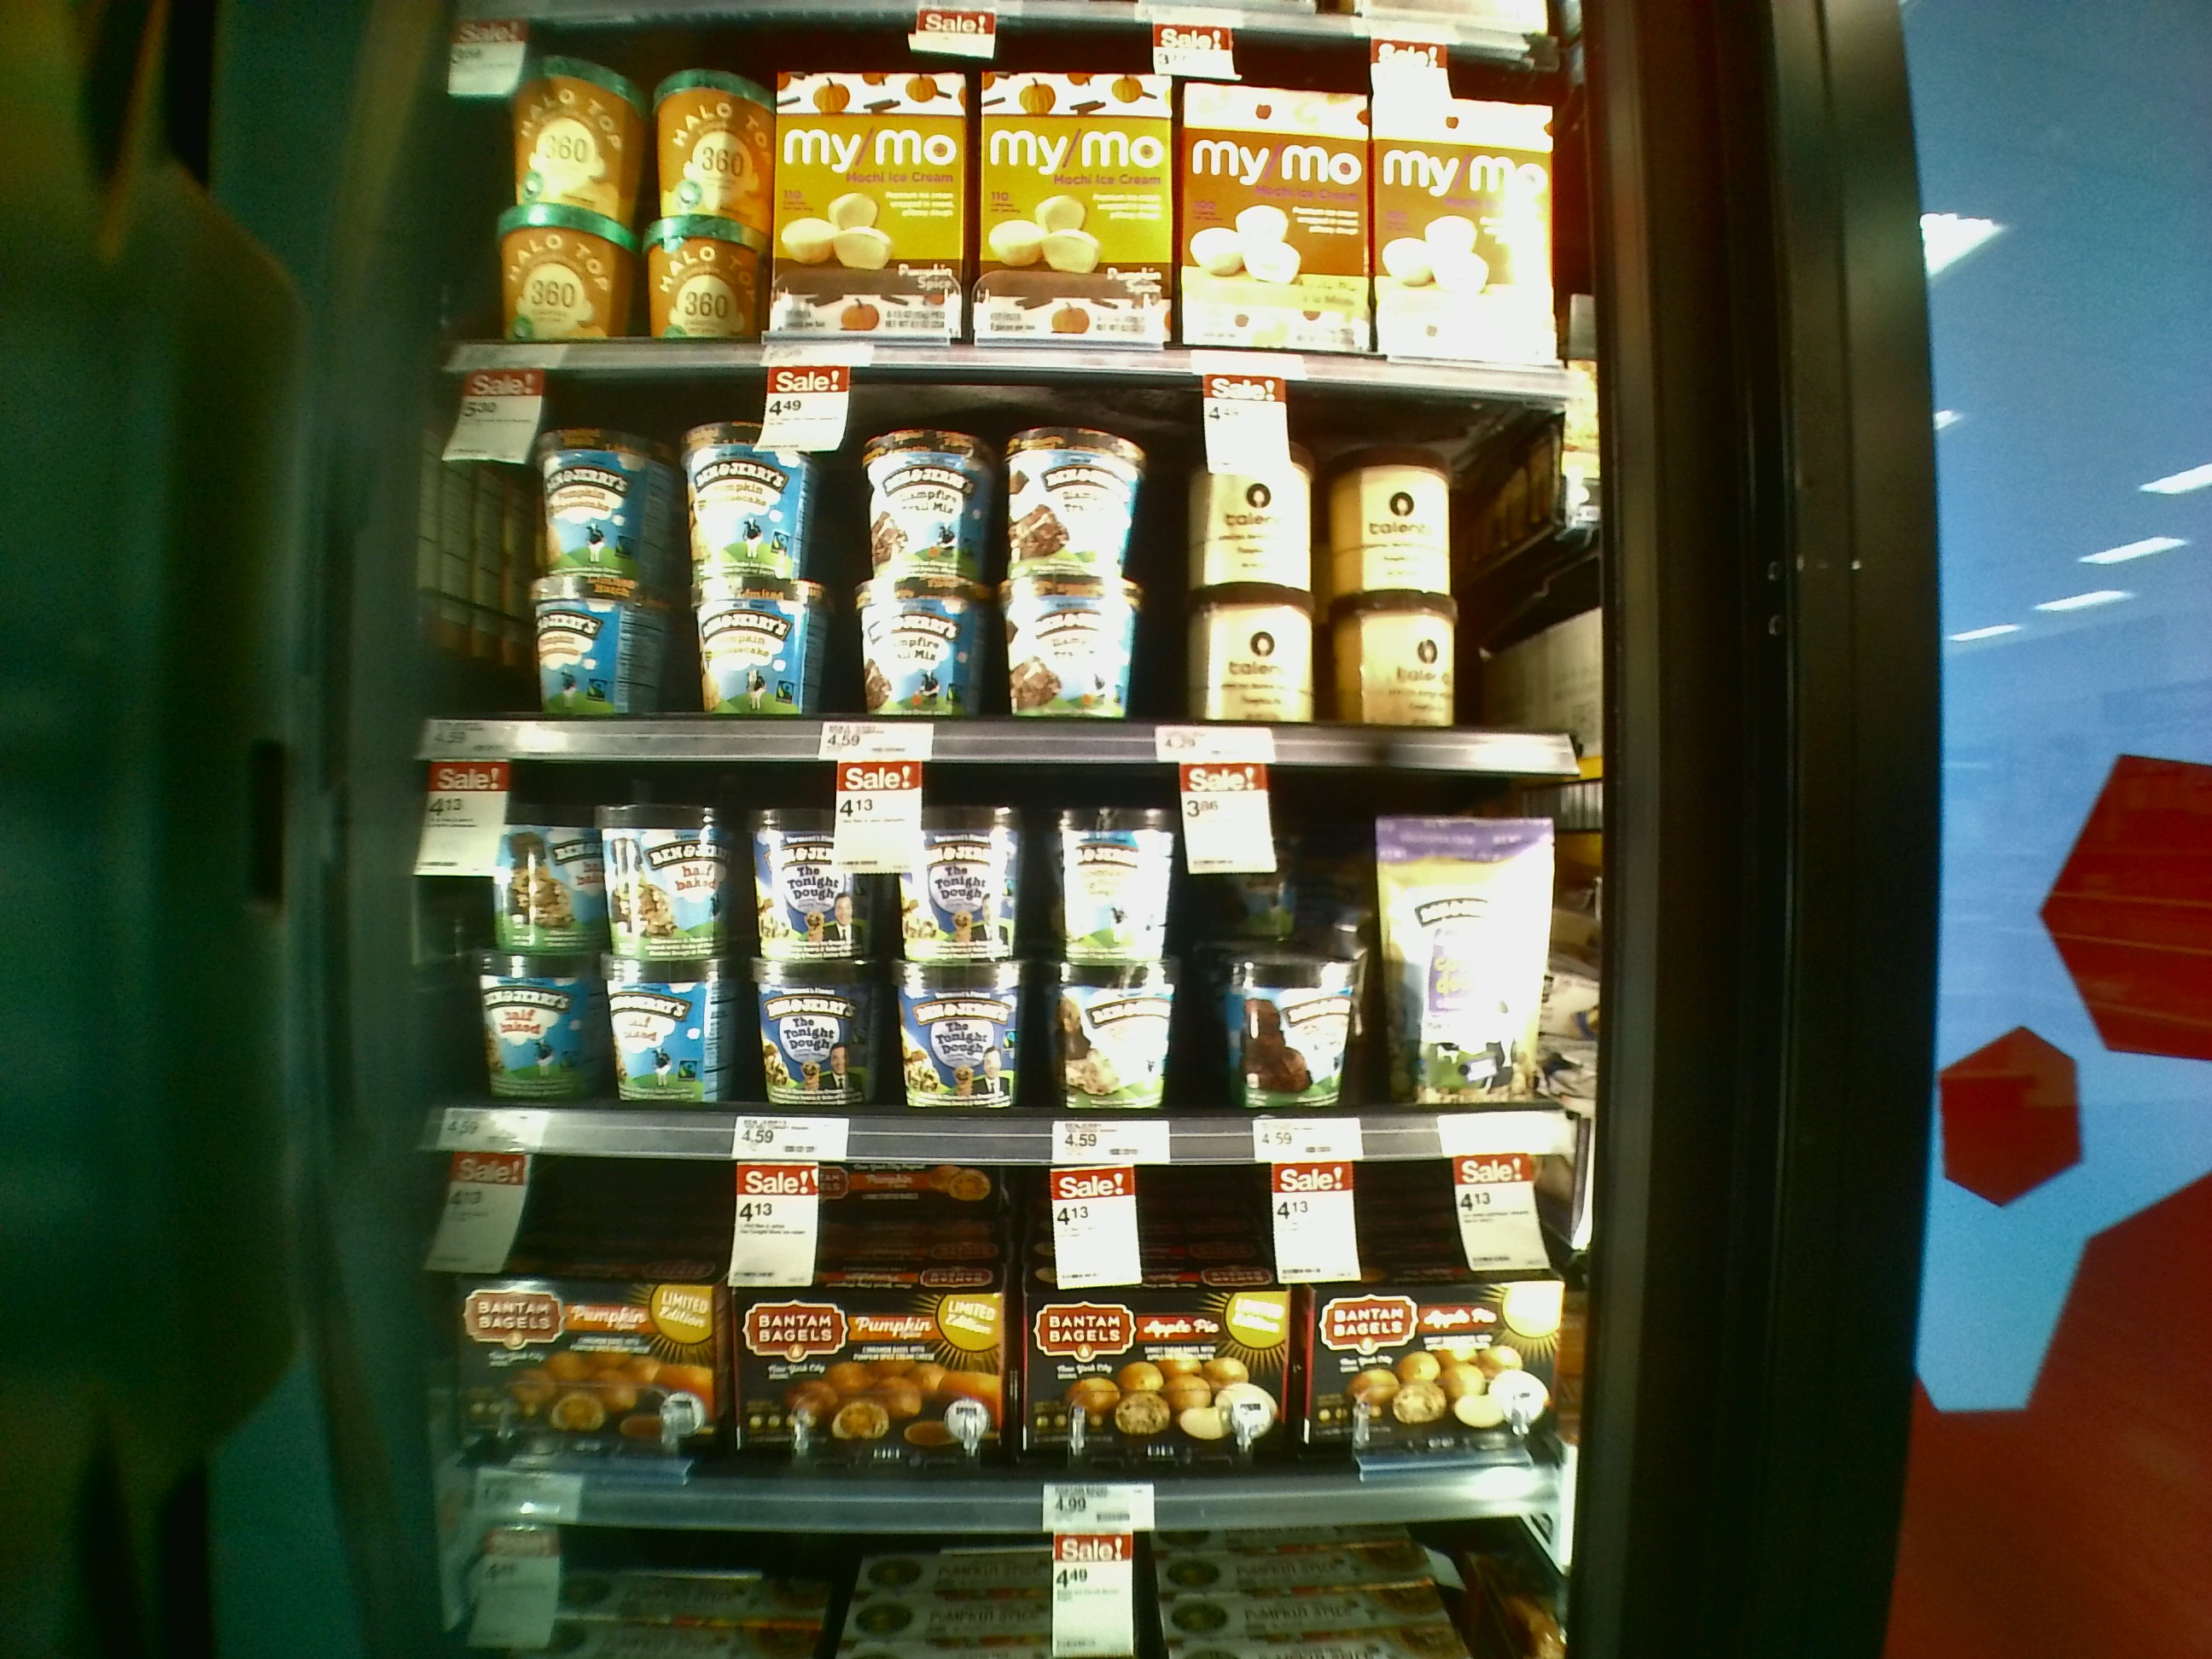shelf: (383, 354, 1615, 775), (387, 774, 1581, 1161), (388, 1164, 1578, 1527)
